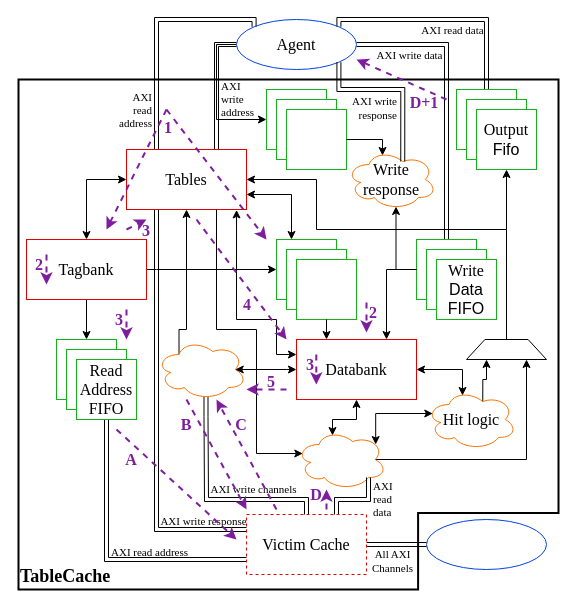
Some shapes in this 576 by 608 pixel diagram are drawn without their labels. Each missing label, with the box of its shape:
Evict logic: (156, 338, 246, 400)
Fill logic: (296, 428, 386, 490)
Main Memory: (426, 518, 546, 570)
Request FIFO: (296, 258, 356, 320)
Write ID FIFO: (286, 108, 346, 170)
